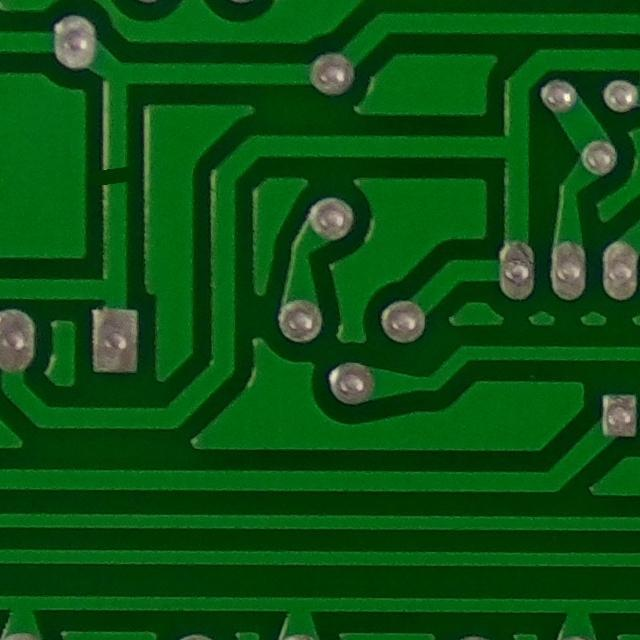open_circuit: (93, 155, 138, 199)
